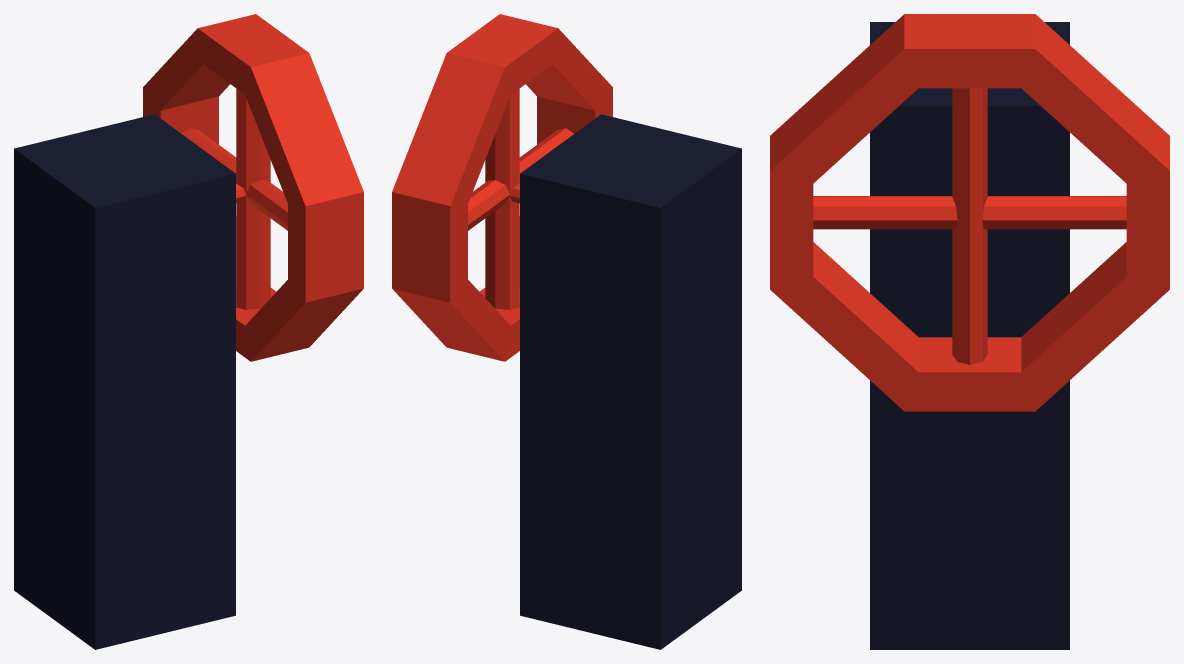
File: valve_model.fbx
The picture shows the model from 3 angles, left to right: view 1: azimuth 30°, elevation 25°; view 2: azimuth 150°, elevation 25°; view 3: azimuth 270°, elevation 25°; orthographic projection. The views are drawn at different scales.
Visible parts, largest first — view 1: Stand, Valve; view 2: Stand, Valve; view 3: Valve, Stand.
Boxes of the visible parts, box(x1,y1,x2,y2) form: Stand: box(14, 114, 235, 649); Valve: box(143, 14, 363, 361); Stand: box(520, 114, 741, 649); Valve: box(392, 14, 612, 361); Valve: box(770, 14, 1169, 411); Stand: box(870, 22, 1069, 649).
Size of the model in its own units: 162 by 361 by 200.
